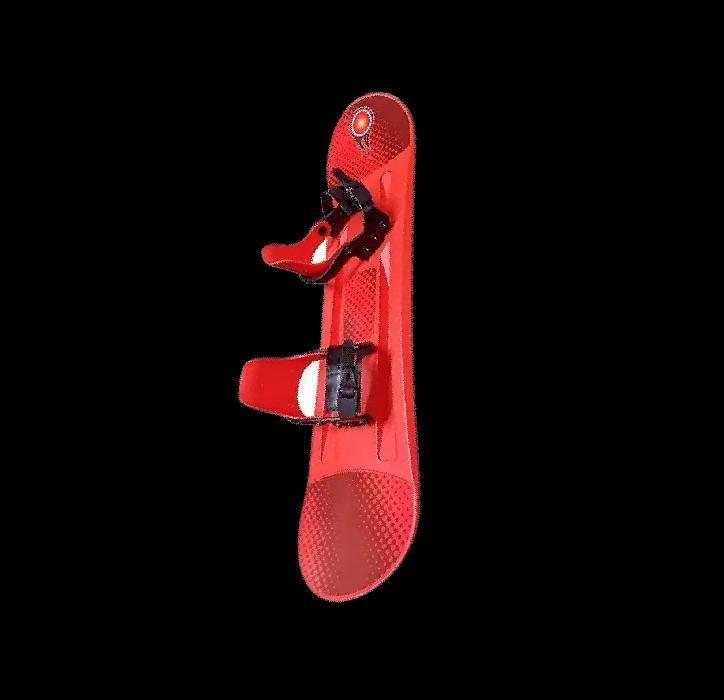Snowboard: (226, 83, 441, 604)
